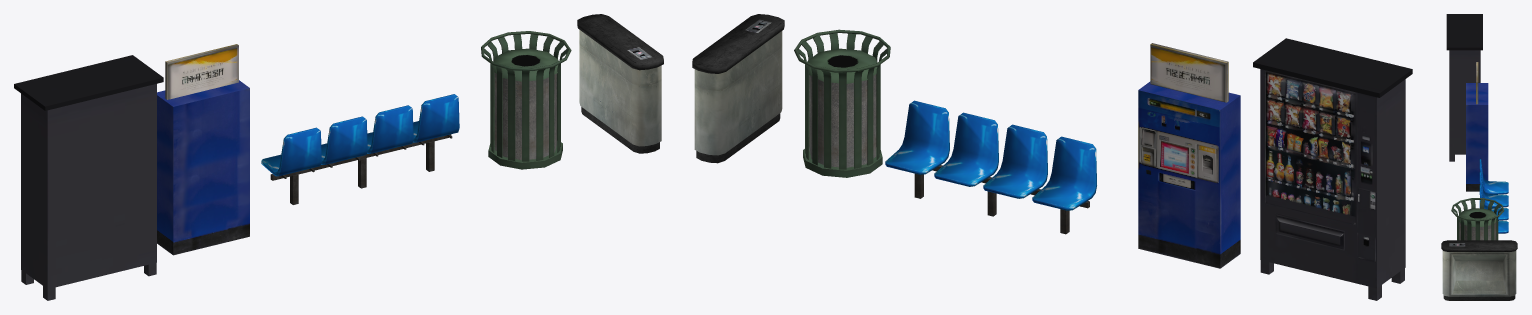
The model's file is Props.fbx.
3 views of the same model, side by side, from view 1: azimuth 30°, elevation 25°; view 2: azimuth 150°, elevation 25°; view 3: azimuth 270°, elevation 25° (orthographic). The views are drawn at different scales.
Parts seen in each view (by area): view 1: Vending_machine, ticket_machine, trash_can, automatic_ticket_gate, Chair; view 2: Vending_machine, ticket_machine, Chair, trash_can, automatic_ticket_gate; view 3: automatic_ticket_gate, Vending_machine, ticket_machine, trash_can, Chair.
Part boxes in pixels (<box>): Vending_machine: <box>14,55,163,300</box>; ticket_machine: <box>157,44,249,255</box>; trash_can: <box>481,31,571,169</box>; automatic_ticket_gate: <box>577,14,663,153</box>; Chair: <box>261,94,459,204</box>; Vending_machine: <box>1253,38,1412,300</box>; ticket_machine: <box>1138,43,1240,268</box>; Chair: <box>885,100,1096,234</box>; trash_can: <box>794,29,890,177</box>; automatic_ticket_gate: <box>692,14,784,163</box>; automatic_ticket_gate: <box>1441,240,1517,300</box>; Vending_machine: <box>1446,14,1482,161</box>; ticket_machine: <box>1466,62,1488,191</box>; trash_can: <box>1451,198,1504,240</box>; Chair: <box>1479,159,1508,233</box>.
Bounding box in the file's own units: 781 × 238 × 142.
